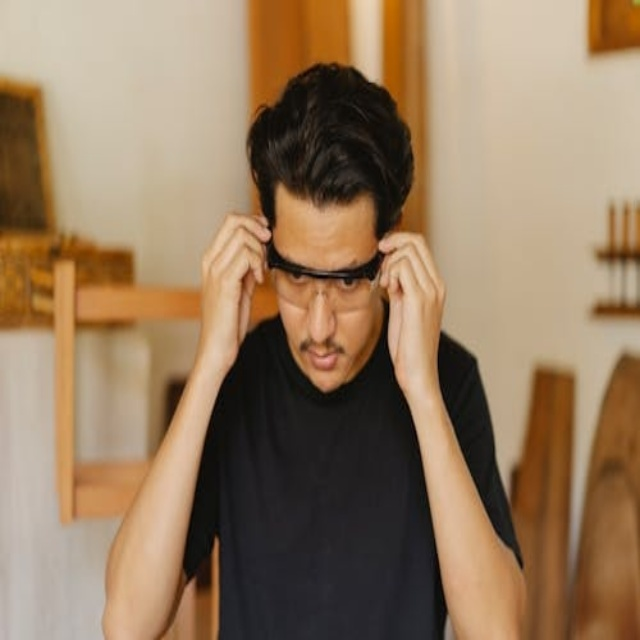Gafas: (266, 238, 386, 296)
Sin_guantes: (188, 204, 275, 375), (376, 223, 447, 381)
Sin_mascara: (287, 332, 352, 390)
